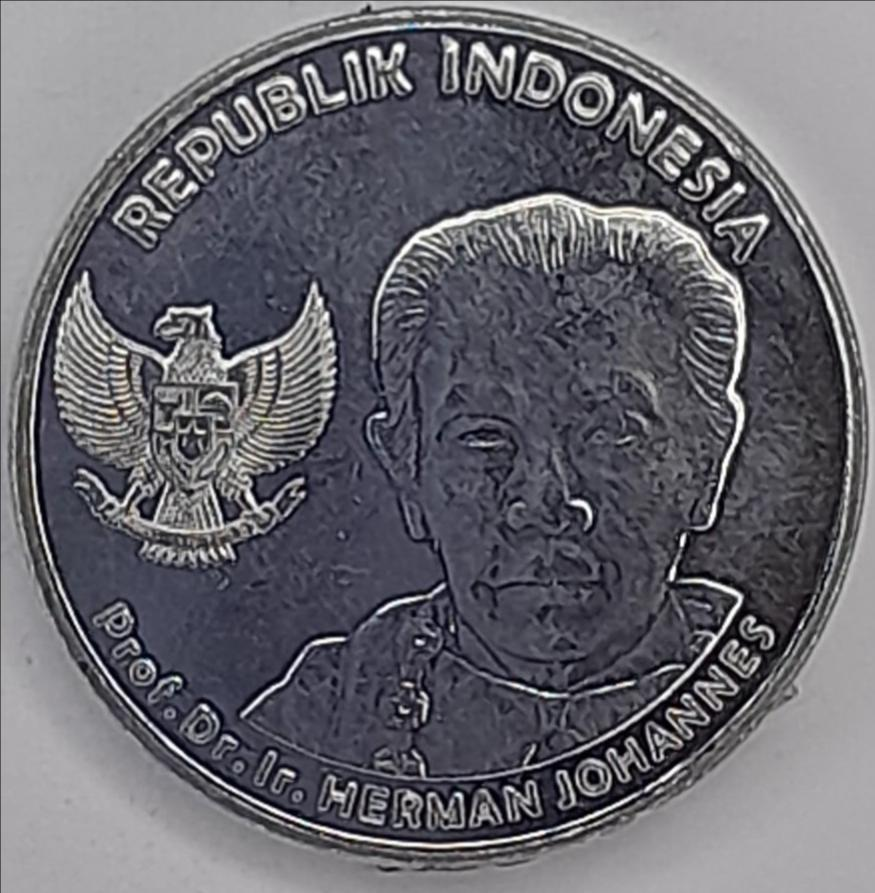coin_100_e2016: (3, 0, 873, 873)
